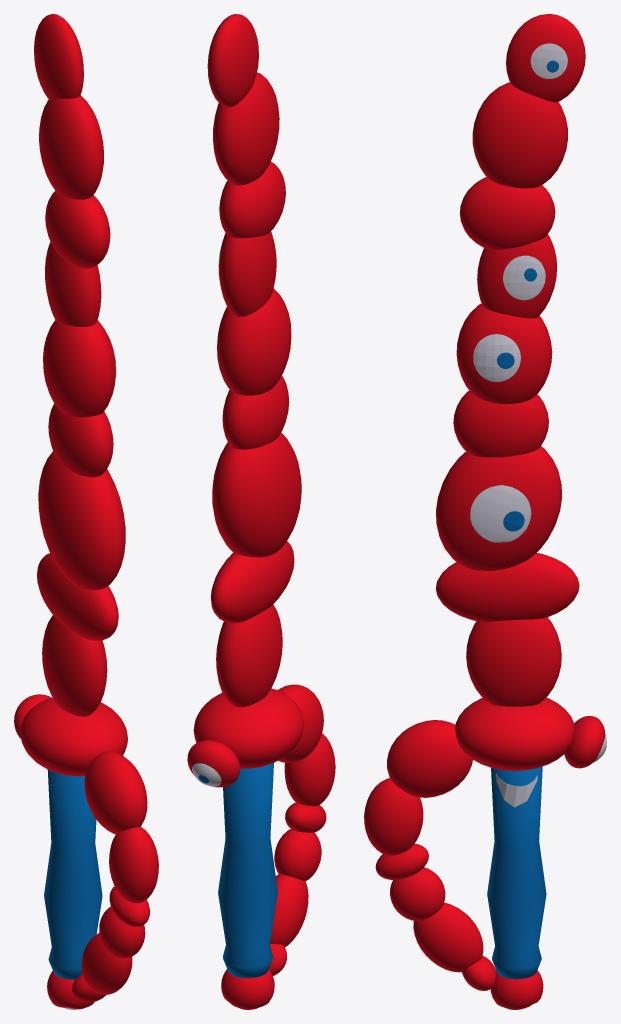
File: myakumyakusaber2.fbx
3 renders of one model, left to right at view 1: azimuth 30°, elevation 25°; view 2: azimuth 150°, elevation 25°; view 3: azimuth 270°, elevation 25°, orthographic. The views are drawn at different scales.
Visible parts, largest first — view 1: 持ち手, 球.009, 球.013, 球.007, 球.016, 球.010, 球.001, 球.011, 球.015, 球.012, 球.017, 球.014 (+7 smaller); view 2: 持ち手, 球.009, 球.007, 球.013, 球.016, 球.010, 球.011, 球.014, 球.017, 球.015, 球.012, 球.002 (+8 smaller); view 3: 持ち手, 球.009, 球.016, 球.010, 球.011, 球.007, 球.013, 球.015, 球.001, 球.012, 球.017, 球.014 (+12 smaller).
Part boxes in pixels (box(x1,y1,x2,y2)): 持ち手: box(44, 770, 102, 979); 球.009: box(38, 451, 125, 589); 球.013: box(43, 320, 115, 417); 球.007: box(20, 697, 127, 776); 球.016: box(39, 95, 103, 199); 球.010: box(42, 615, 107, 716); 球.001: box(84, 751, 147, 834); 球.011: box(37, 553, 118, 640); 球.015: box(45, 191, 110, 268); 球.012: box(48, 403, 113, 477); 球.017: box(34, 14, 83, 99); 球.014: box(45, 242, 101, 326); 持ち手: box(218, 763, 277, 978); 球.009: box(212, 432, 301, 557); 球.007: box(193, 688, 303, 768); 球.013: box(217, 288, 291, 395); 球.016: box(213, 72, 279, 185); 球.010: box(216, 604, 282, 707); 球.011: box(210, 541, 294, 623); 球.014: box(219, 232, 276, 316); 球.017: box(207, 14, 258, 107); 球.015: box(219, 161, 285, 238); 球.012: box(222, 375, 289, 449); 球.002: box(284, 733, 335, 806); 持ち手: box(487, 766, 546, 979); 球.009: box(436, 446, 561, 570); 球.016: box(472, 82, 567, 188); 球.010: box(466, 617, 561, 706); 球.011: box(435, 553, 579, 622); 球.007: box(455, 697, 574, 770); 球.013: box(456, 303, 552, 404); 球.015: box(459, 177, 555, 249); 球.001: box(387, 720, 472, 797); 球.012: box(453, 390, 548, 457); 球.017: box(506, 14, 585, 102); 球.014: box(477, 234, 557, 318).
Bounding box in the file's own units: 3.93 × 40.99 × 9.08.
